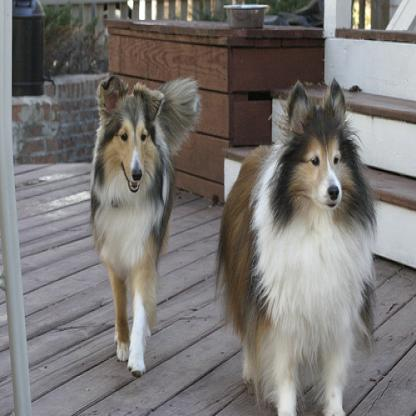Shetland_sheepdog: (218, 77, 375, 414), (84, 66, 201, 376)
